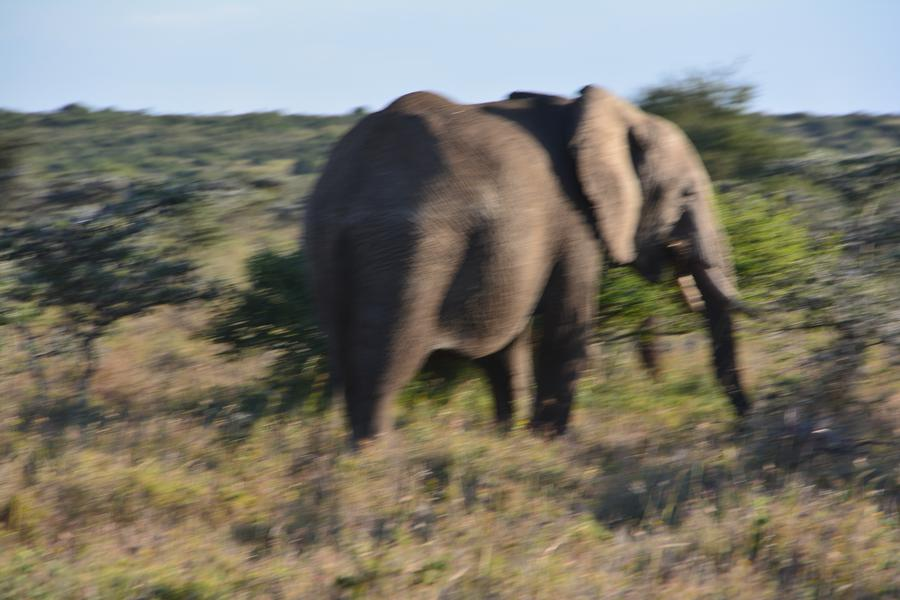elephant: (310, 92, 730, 439)
